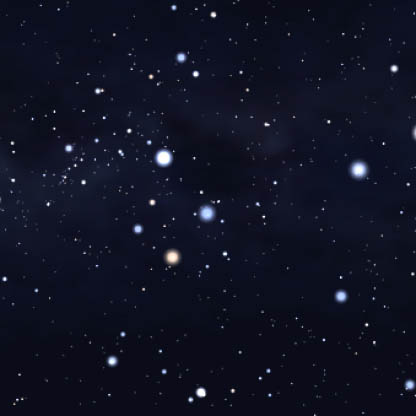Southern Cross: (156, 245, 189, 270), (190, 197, 220, 224), (148, 145, 178, 170), (131, 218, 145, 239)
